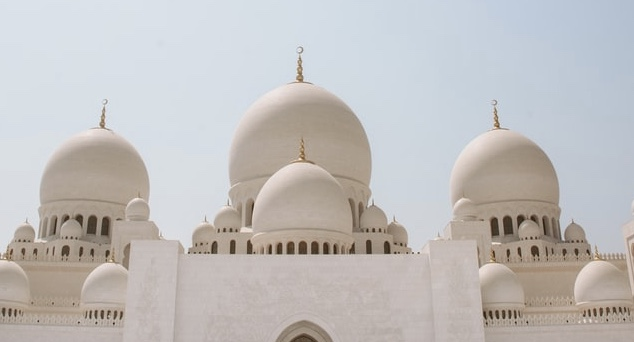Mosque: (2, 44, 627, 332)
